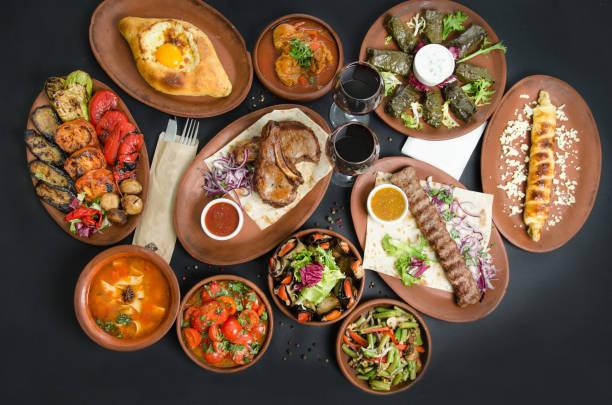Braised Crucian Carp: (348, 155, 506, 320), (172, 106, 330, 271), (480, 75, 600, 251), (27, 75, 149, 245), (359, 0, 504, 141), (90, 0, 249, 118), (73, 244, 179, 350), (177, 275, 274, 373), (267, 227, 364, 324), (335, 298, 432, 394), (253, 12, 343, 101)
